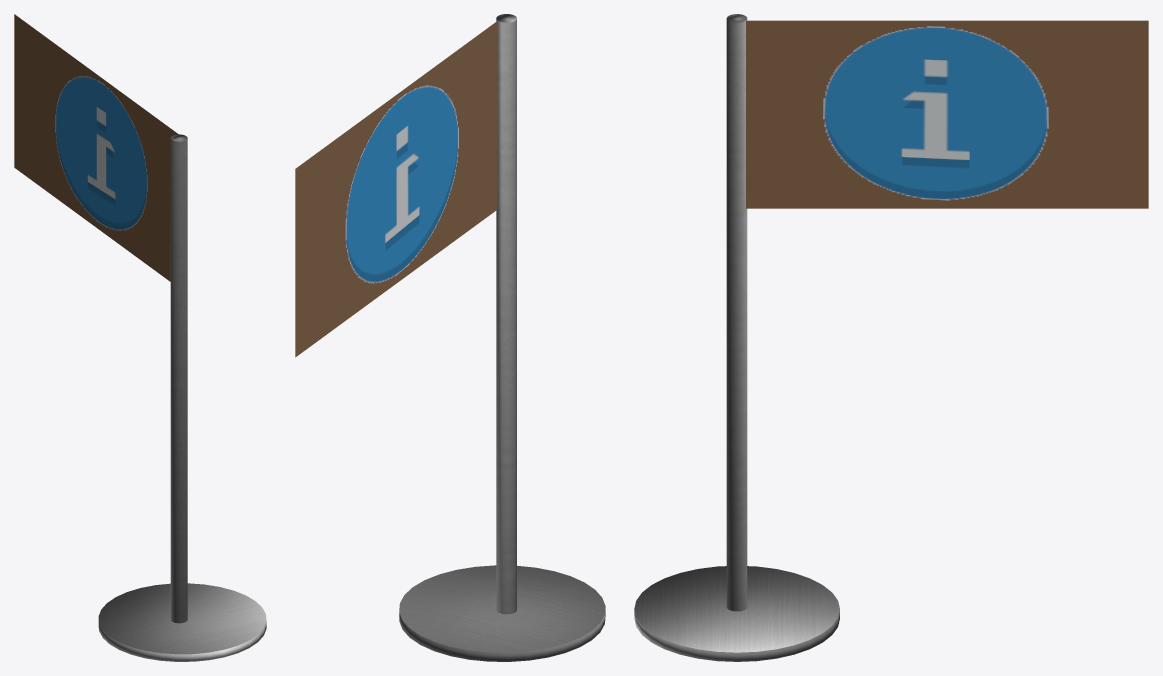
The model's file is flag.gltf.
3 views of the same model, side by side, from view 1: azimuth 30°, elevation 25°; view 2: azimuth 150°, elevation 25°; view 3: azimuth 270°, elevation 25° (orthographic). The views are drawn at different scales.
Parts seen in each view (by area): view 1: Plane, Cylinder.001, Cylinder; view 2: Plane, Cylinder.001, Cylinder; view 3: Plane, Cylinder.001, Cylinder.
Boxes of the visible parts, box(x1,y1,x2,y2) form: Plane: box(14, 14, 178, 281); Cylinder.001: box(98, 583, 266, 661); Cylinder: box(170, 134, 187, 623); Plane: box(295, 21, 497, 357); Cylinder.001: box(399, 565, 605, 661); Cylinder: box(496, 14, 516, 614); Plane: box(746, 20, 1148, 208); Cylinder.001: box(634, 566, 839, 661); Cylinder: box(726, 14, 747, 611).
Size of the model in its own units: 1 by 3.21 by 2.5.
2 materials, 2 textured.
